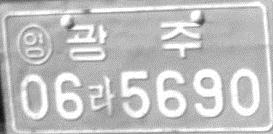0: (229, 67, 261, 118), (19, 72, 49, 120)
5: (119, 69, 151, 119)
6: (154, 68, 187, 119), (53, 71, 84, 120)
9: (192, 67, 224, 118)
광주_D: (65, 20, 203, 61)
라: (87, 75, 116, 116)
영: (15, 23, 52, 65)
